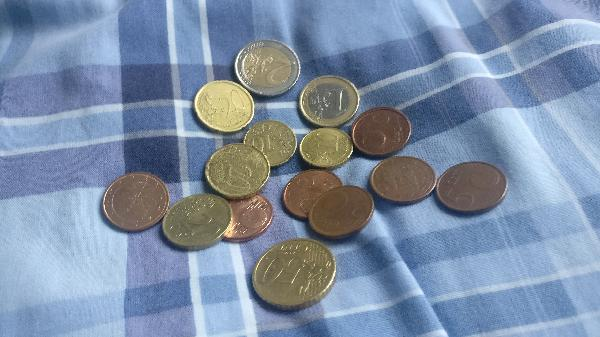Fifty Cent: (252, 239, 343, 310)
Five Cent: (436, 161, 512, 217), (101, 172, 168, 233), (308, 185, 378, 238), (373, 154, 437, 209), (283, 168, 348, 220), (352, 108, 416, 157), (217, 192, 276, 242)
One Euro: (299, 75, 359, 125)
Ten Cent: (243, 120, 296, 167), (299, 127, 354, 169)
Twenty Cent: (161, 195, 233, 254), (206, 143, 268, 196), (195, 77, 255, 131)
Two Euro: (236, 40, 301, 97)
